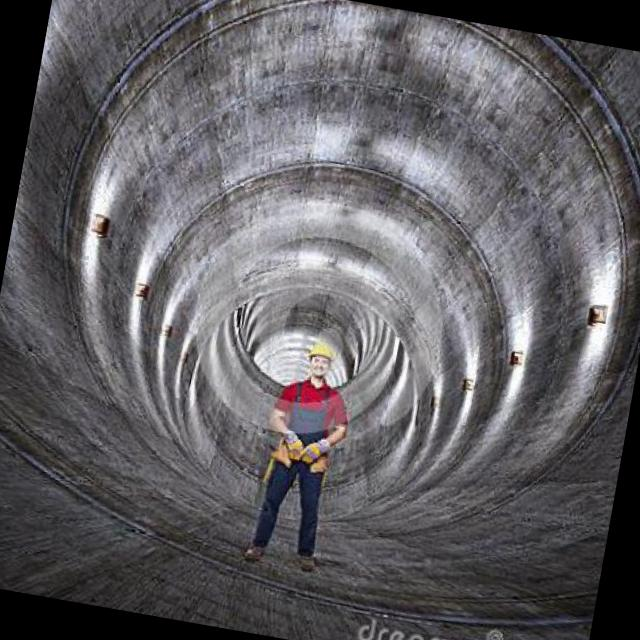helmet: (303, 337, 335, 384)
